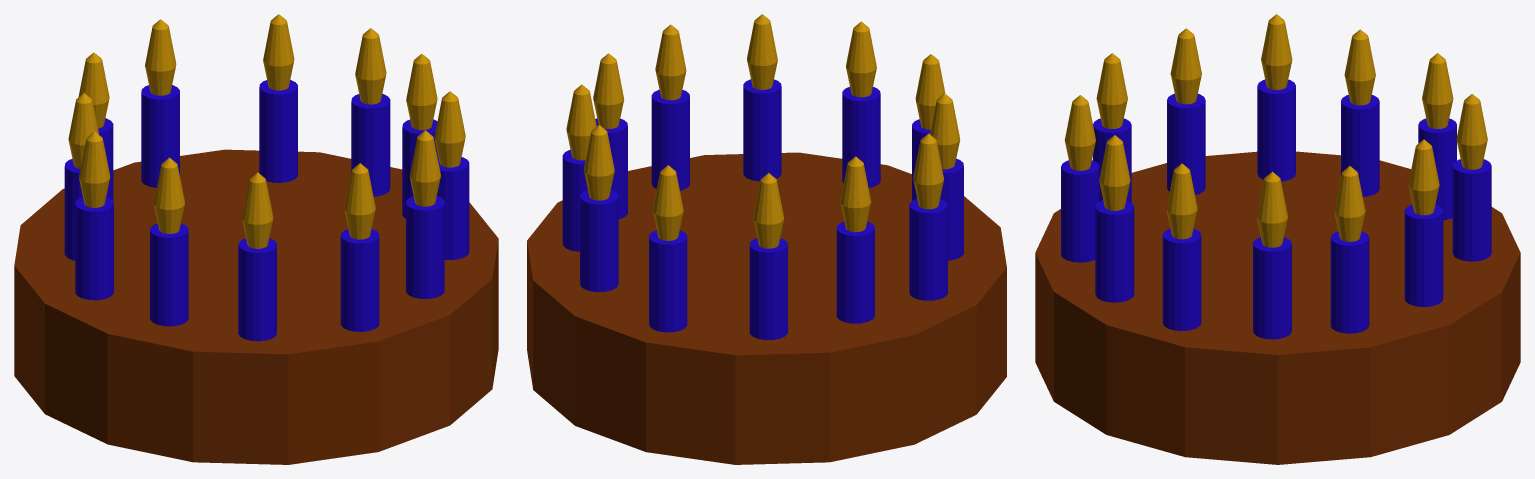
Rendered from cake.obj.
3 views of the same model, side by side, from view 1: azimuth 30°, elevation 25°; view 2: azimuth 150°, elevation 25°; view 3: azimuth 270°, elevation 25° (orthographic).
Visible parts, largest first — view 1: Circle, Cylinder.001, Cylinder.008, Cylinder.009, Cylinder.007, Cylinder.006, Cylinder.003, Cylinder.004, Cylinder, Cylinder.005, Cylinder.002, Cylinder.010 (+1 smaller); view 2: Circle, Cylinder.009, Cylinder, Cylinder.011, Cylinder.010, Cylinder.003, Cylinder.006, Cylinder.005, Cylinder.001, Cylinder.004, Cylinder.008, Cylinder.002 (+1 smaller); view 3: Circle, Cylinder, Cylinder.006, Cylinder.004, Cylinder.003, Cylinder.005, Cylinder.002, Cylinder.009, Cylinder.001, Cylinder.010, Cylinder.008, Cylinder.011 (+1 smaller).
Boxes of the visible parts, x1=… form: Circle: x1=14, y1=149, x2=498, y2=464; Cylinder.001: x1=340, y1=163, x2=379, y2=331; Cylinder.008: x1=150, y1=157, x2=188, y2=326; Cylinder.009: x1=75, y1=131, x2=113, y2=300; Cylinder.007: x1=238, y1=172, x2=276, y2=341; Cylinder.006: x1=406, y1=130, x2=444, y2=298; Cylinder.003: x1=259, y1=14, x2=297, y2=182; Cylinder.004: x1=351, y1=28, x2=390, y2=196; Cylinder: x1=141, y1=19, x2=179, y2=187; Cylinder.005: x1=434, y1=91, x2=469, y2=259; Cylinder.002: x1=402, y1=54, x2=438, y2=218; Cylinder.010: x1=64, y1=93, x2=99, y2=260; Circle: x1=527, y1=152, x2=1006, y2=464; Cylinder.009: x1=909, y1=133, x2=947, y2=300; Cylinder: x1=649, y1=165, x2=687, y2=332; Cylinder.011: x1=749, y1=173, x2=787, y2=340; Cylinder.010: x1=836, y1=156, x2=874, y2=323; Cylinder.003: x1=580, y1=125, x2=618, y2=291; Cylinder.006: x1=743, y1=14, x2=781, y2=181; Cylinder.005: x1=651, y1=24, x2=689, y2=190; Cylinder.001: x1=842, y1=21, x2=880, y2=187; Cylinder.004: x1=562, y1=84, x2=596, y2=251; Cylinder.008: x1=930, y1=93, x2=963, y2=260; Cylinder.002: x1=593, y1=53, x2=627, y2=219; Circle: x1=1035, y1=151, x2=1520, y2=464; Cylinder: x1=1452, y1=94, x2=1491, y2=261; Cylinder.006: x1=1095, y1=135, x2=1134, y2=302; Cylinder.004: x1=1330, y1=166, x2=1369, y2=333; Cylinder.003: x1=1404, y1=139, x2=1443, y2=306; Cylinder.005: x1=1162, y1=163, x2=1201, y2=330; Cylinder.002: x1=1253, y1=171, x2=1291, y2=339; Cylinder.009: x1=1257, y1=14, x2=1295, y2=181; Cylinder.001: x1=1061, y1=95, x2=1099, y2=262; Cylinder.010: x1=1341, y1=29, x2=1379, y2=196; Cylinder.008: x1=1167, y1=28, x2=1205, y2=194; Cylinder.011: x1=1418, y1=53, x2=1456, y2=220.
Bounding box in the file's own units: 2 × 1.23 × 2.
